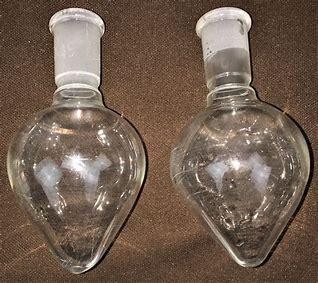Pear shaped flask: (164, 10, 309, 271), (9, 5, 150, 266)
